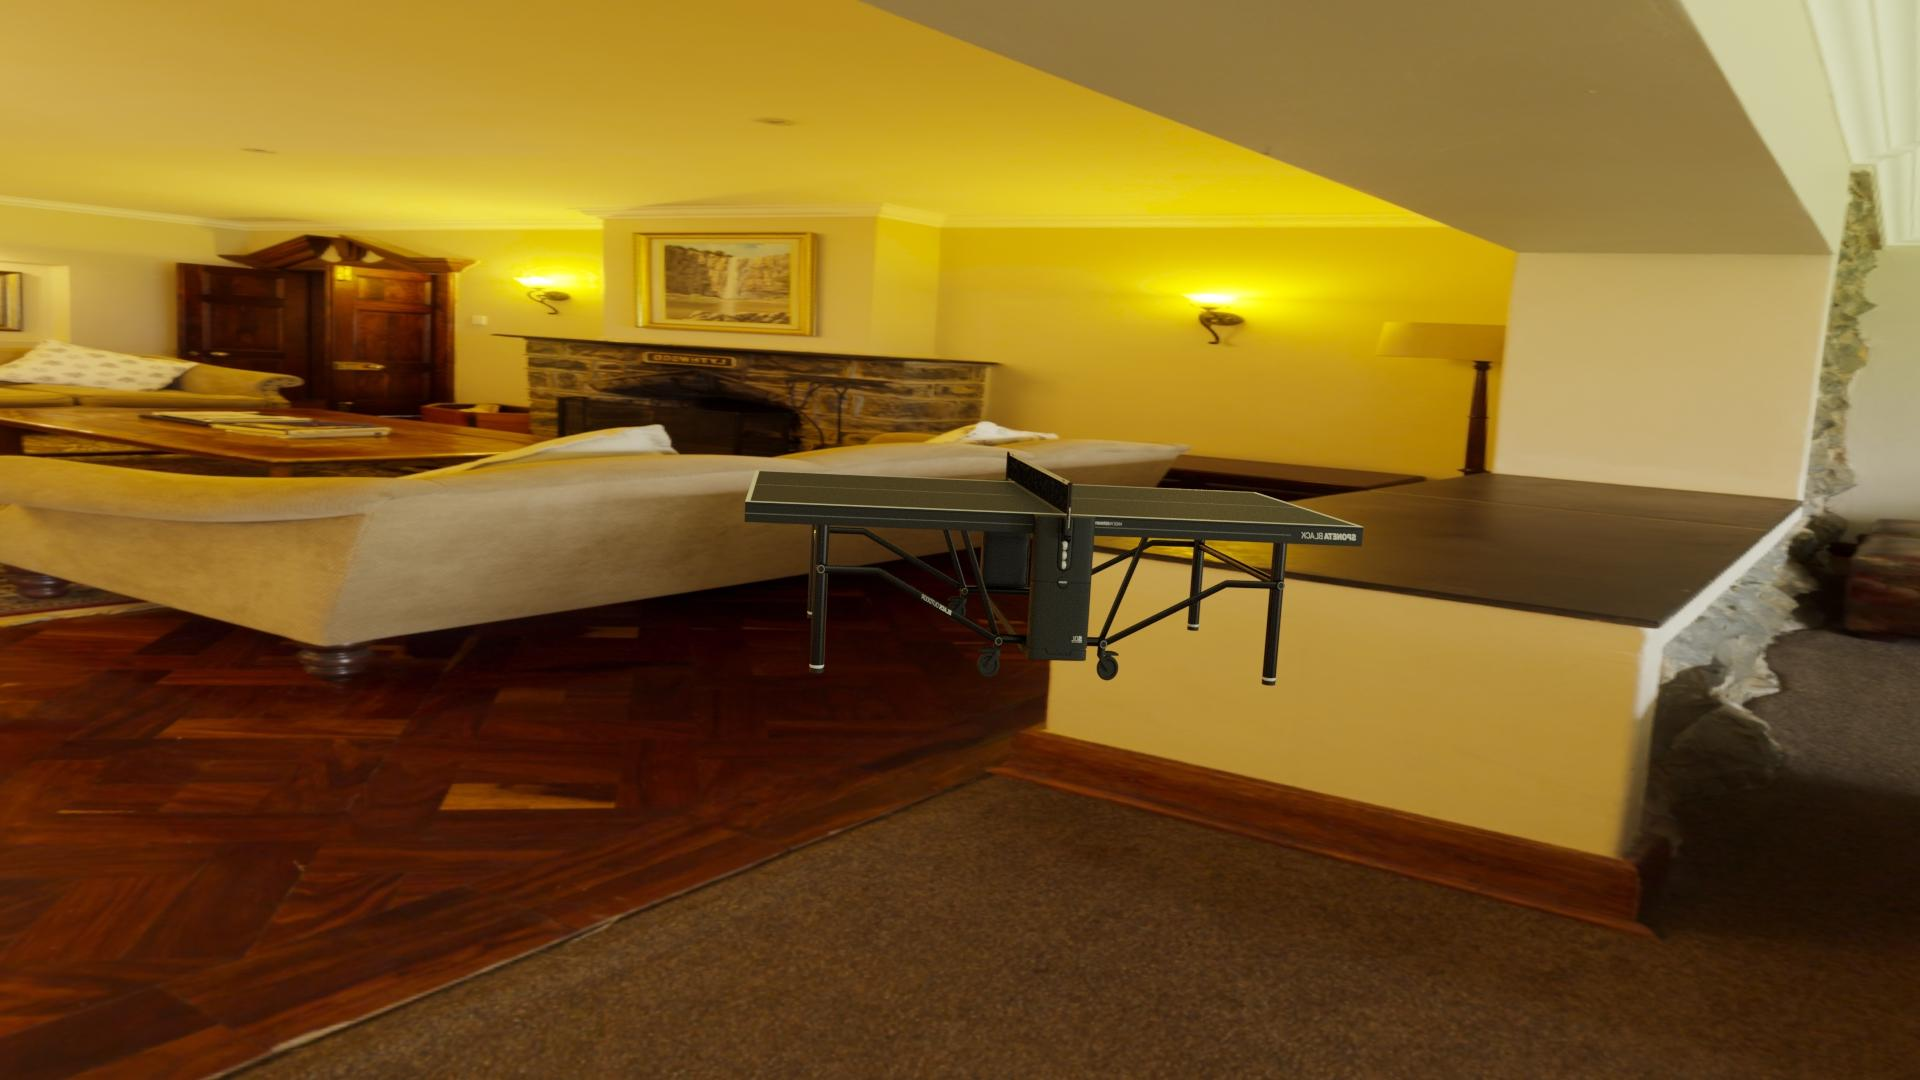table: (750, 471, 1358, 526)
